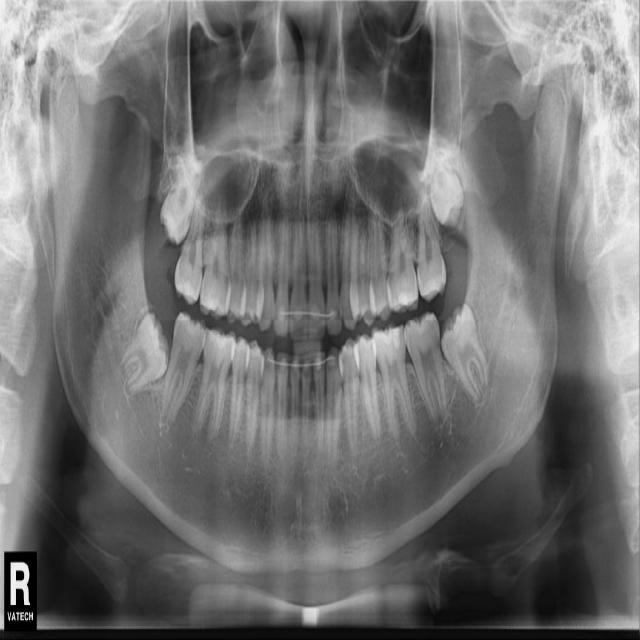Filling: (376, 326, 403, 350)
impacted tooth: (116, 313, 167, 402), (441, 309, 490, 401), (163, 155, 203, 241), (427, 139, 459, 223)
